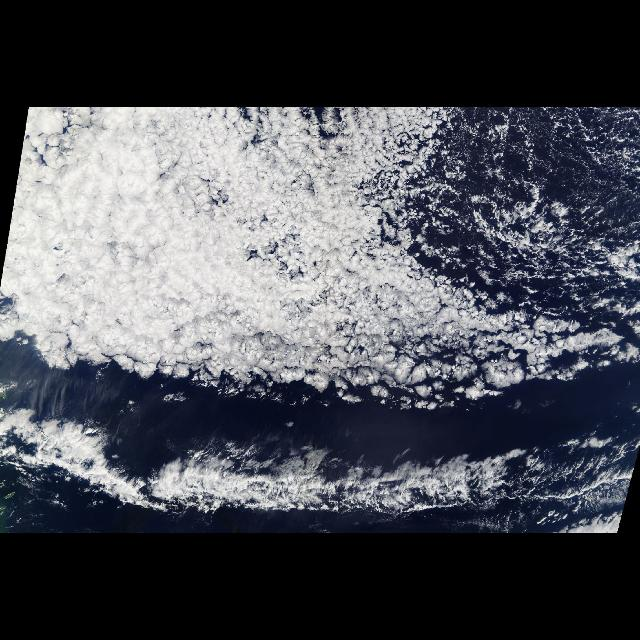Fish: (1, 386, 639, 534)
Flower: (27, 154, 410, 403)
Gravel: (446, 158, 628, 312)
